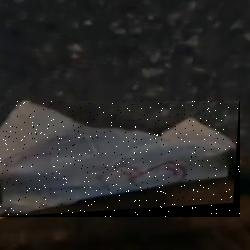restaffald: (0, 101, 240, 217)
